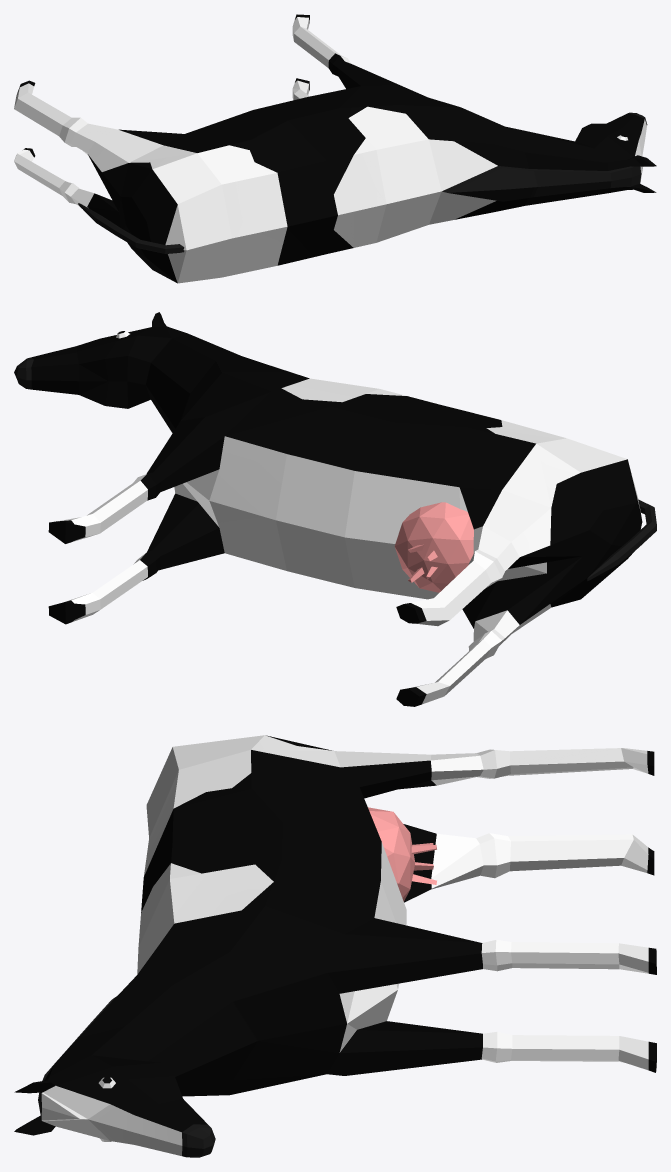
Rendered from HorseDrip.glb.
3 views of the same model, one above another, from view 1: azimuth 30°, elevation 25°; view 2: azimuth 150°, elevation 25°; view 3: azimuth 270°, elevation 25° (orthographic). The views are drawn at different scales.
Parts seen in each view (by area): view 1: HorseDrip; view 2: HorseDrip; view 3: HorseDrip.
Part boxes in pixels (x1,y1,x2,y2): HorseDrip: [14, 14, 656, 283]; HorseDrip: [14, 312, 656, 706]; HorseDrip: [14, 735, 656, 1157].
Size of the model in its own units: 2.55 by 0.57 by 1.87.
1 material, 1 textured.
